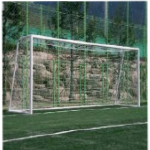goals: (8, 33, 143, 115)
